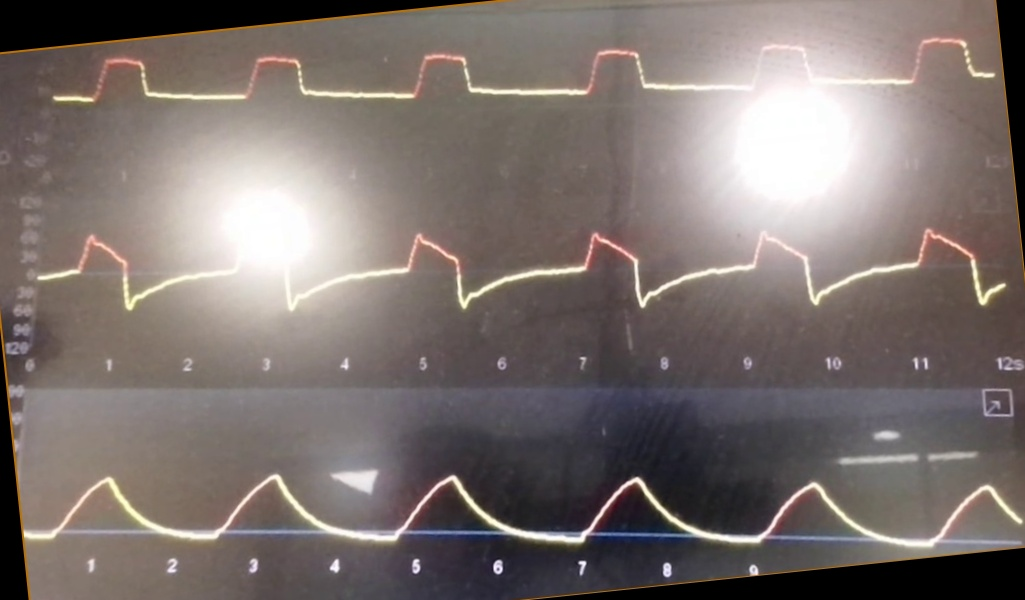Normal Flow: (40, 208, 1010, 339)
Normal Volume: (25, 428, 1021, 554)
